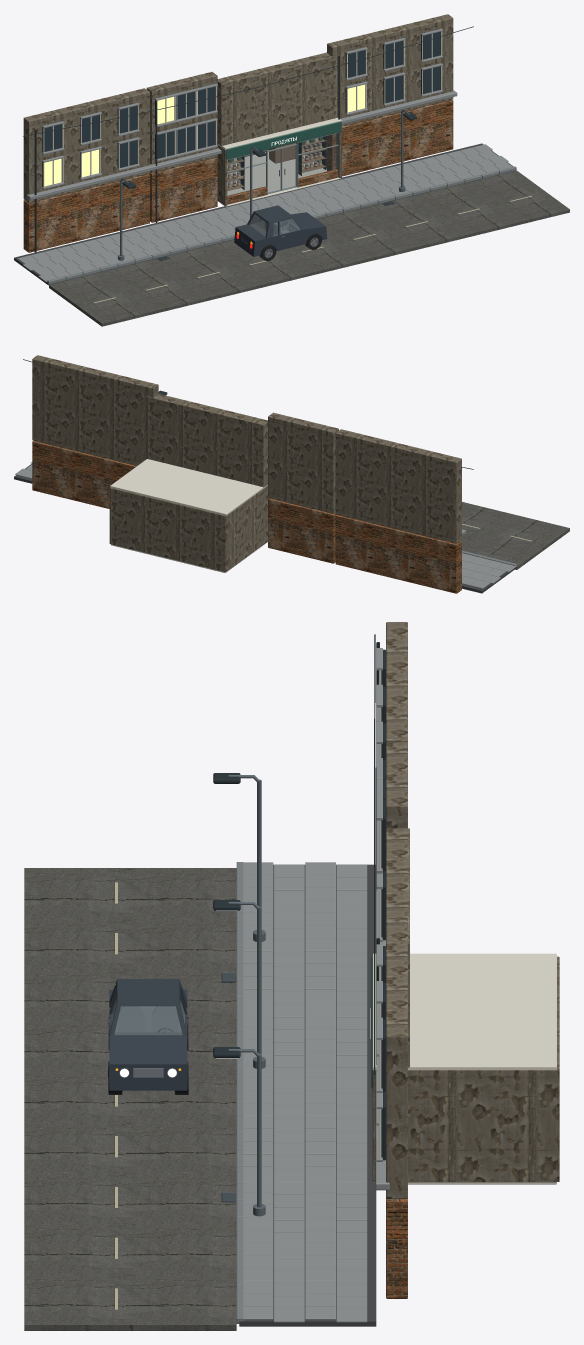
File: story-street.glb
3 renders of one model, top to bottom at view 1: azimuth 30°, elevation 25°; view 2: azimuth 150°, elevation 25°; view 3: azimuth 270°, elevation 25°, orthographic. The views are drawn at different scales.
Visible parts, largest first — view 1: Asphalt bounded road, Static street batch | Poly Haven worn plaster, Static street batch | Pale worn concrete, Static street batch | Poly Haven exposed brick, Static street batch | Apartment glass, Static street batch | Shop warm enamel, Static street batch | Powder coated metal, Static street batch | Night blue glass, car-normal-red, Static street batch | Kerb granite, Static street batch | Occupied warm windows, Sidewalk underbed (+7 smaller); view 2: Static street batch | Poly Haven worn plaster, Static street batch | Poly Haven exposed brick, Static street batch | Shop warm enamel, Asphalt bounded road, Static street batch | Pale worn concrete, Sidewalk underbed; view 3: Asphalt bounded road, Static street batch | Pale worn concrete, Static street batch | Poly Haven worn plaster, Static street batch | Shop warm enamel, car-normal-red, Sidewalk underbed, Static street batch | Powder coated metal, Static street batch | Kerb granite, Static street batch | Lamp galvanised steel, Static street batch | Poly Haven exposed brick, car-normal-red.007.
Boxes of the visible parts, x1,y1,x2,y2 form: Asphalt bounded road: (49, 170, 569, 326); Static street batch | Poly Haven worn plaster: (23, 14, 453, 205); Static street batch | Pale worn concrete: (17, 28, 512, 281); Static street batch | Poly Haven exposed brick: (23, 100, 453, 252); Static street batch | Apartment glass: (44, 32, 440, 167); Static street batch | Shop warm enamel: (43, 31, 442, 206); Static street batch | Powder coated metal: (23, 26, 473, 260); Static street batch | Night blue glass: (227, 133, 337, 195); car-normal-red: (234, 205, 327, 256); Static street batch | Kerb granite: (47, 166, 516, 284); Static street batch | Occupied warm windows: (44, 84, 365, 186); Sidewalk underbed: (14, 143, 515, 285); Static street batch | Poly Haven worn plaster: (32, 355, 461, 572); Static street batch | Poly Haven exposed brick: (32, 440, 461, 593); Static street batch | Shop warm enamel: (110, 459, 267, 572); Asphalt bounded road: (461, 502, 569, 569); Static street batch | Pale worn concrete: (15, 462, 516, 588); Sidewalk underbed: (14, 464, 516, 593); Asphalt bounded road: (24, 868, 236, 1330); Static street batch | Pale worn concrete: (243, 648, 389, 1322); Static street batch | Poly Haven worn plaster: (372, 622, 559, 1198); Static street batch | Shop warm enamel: (372, 670, 556, 1184); car-normal-red: (109, 979, 187, 1090); Sidewalk underbed: (239, 864, 376, 1326); Static street batch | Powder coated metal: (213, 634, 385, 1202); Static street batch | Kerb granite: (236, 862, 243, 1323); Static street batch | Lamp galvanised steel: (222, 775, 265, 1216); Static street batch | Poly Haven exposed brick: (386, 1198, 407, 1298); car-normal-red.007: (113, 1038, 182, 1062).
Bounding box in the file's own units: 27.14 × 7.43 × 13.37.
37 materials, 3 textured.
